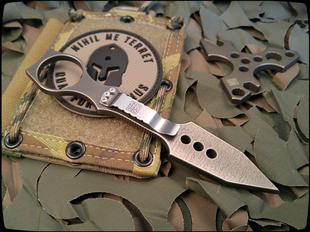knife: (19, 46, 284, 213)
